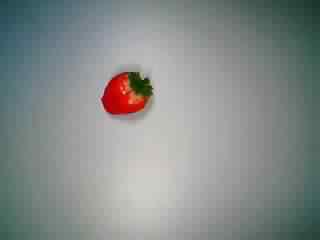strawberry: (91, 64, 164, 128)
